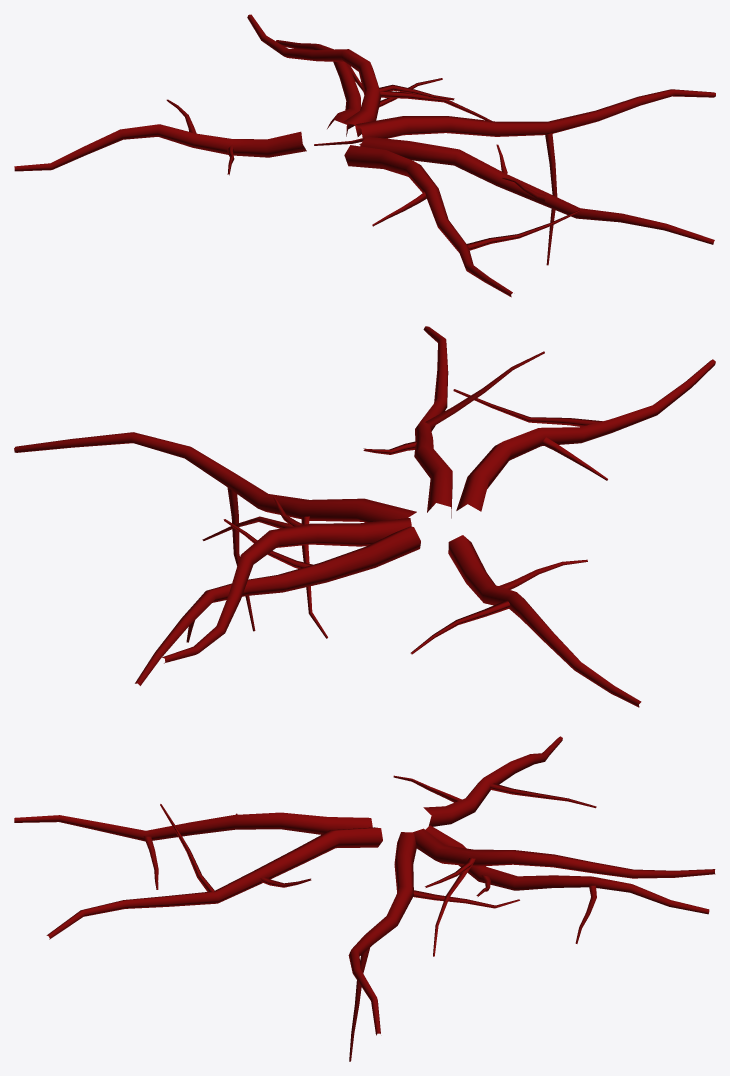
The model's file is roots_c.glb.
3 views of the same model, one above another, from view 1: azimuth 30°, elevation 25°; view 2: azimuth 150°, elevation 25°; view 3: azimuth 270°, elevation 25° (orthographic). The views are drawn at different scales.
Visible parts, largest first — view 1: LOD0; view 2: LOD0; view 3: LOD0.
Part boxes in pixels (x1,y1,x2,y2): LOD0: [14, 14, 715, 297]; LOD0: [14, 326, 715, 707]; LOD0: [14, 736, 715, 1061].
Size of what is drawn, in the model's own units: 4.41 by 1.34 by 4.49.
